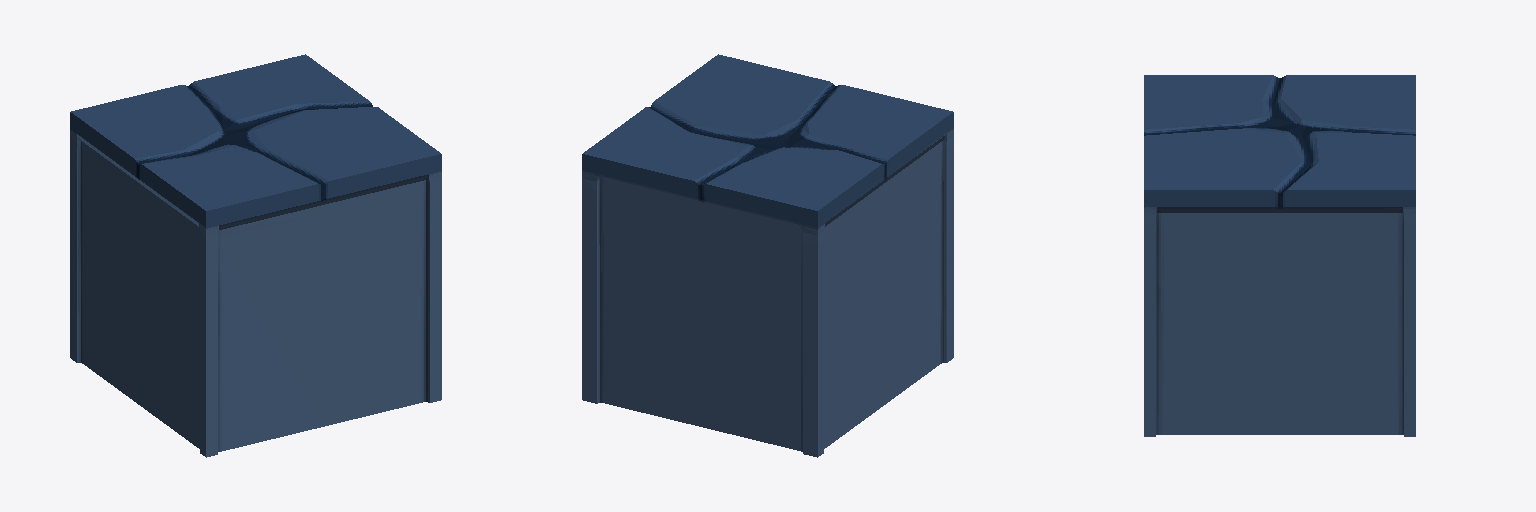
3 renders of one model, left to right at view 1: azimuth 30°, elevation 25°; view 2: azimuth 150°, elevation 25°; view 3: azimuth 270°, elevation 25°, orthographic.
Parts seen in each view (by area): view 1: pCube1; view 2: pCube1; view 3: pCube1.
Boxes of the visible parts, x1=… form: pCube1: x1=70, y1=54, x2=441, y2=457; pCube1: x1=582, y1=54, x2=953, y2=457; pCube1: x1=1144, y1=75, x2=1415, y2=436.
Bounding box in the file's own units: 5 × 5 × 5.
1 materials, 1 textured.